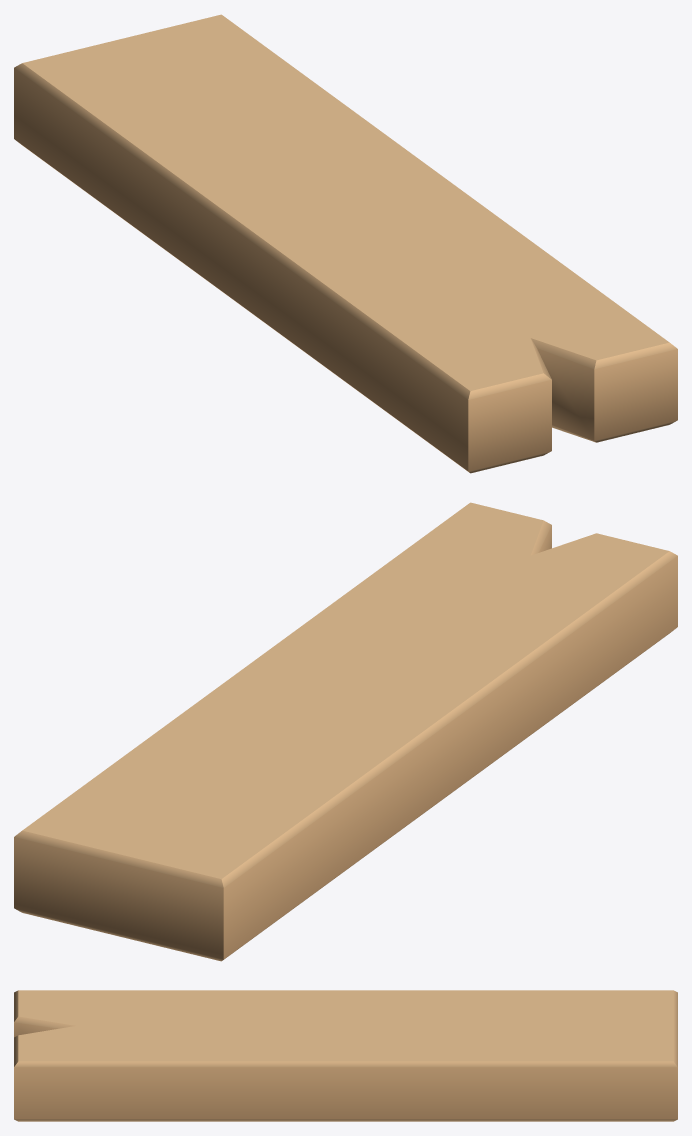
The model's file is wood_plank_b.glb.
3 views of the same model, one above another, from view 1: azimuth 30°, elevation 25°; view 2: azimuth 150°, elevation 25°; view 3: azimuth 270°, elevation 25° (orthographic). The views are drawn at different scales.
Visible parts, largest first — view 1: Wood_Plank_B; view 2: Wood_Plank_B; view 3: Wood_Plank_B.
Part boxes in pixels (x1,y1,x2,y2): Wood_Plank_B: [14, 14, 677, 473]; Wood_Plank_B: [14, 502, 677, 961]; Wood_Plank_B: [14, 990, 677, 1121].
Bounding box in the file's own units: 0.24 × 0.09 × 0.9.
Materials: 1 (1 with a texture image).
